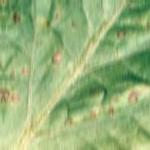Tomato mold leaf: (2, 0, 150, 148)
